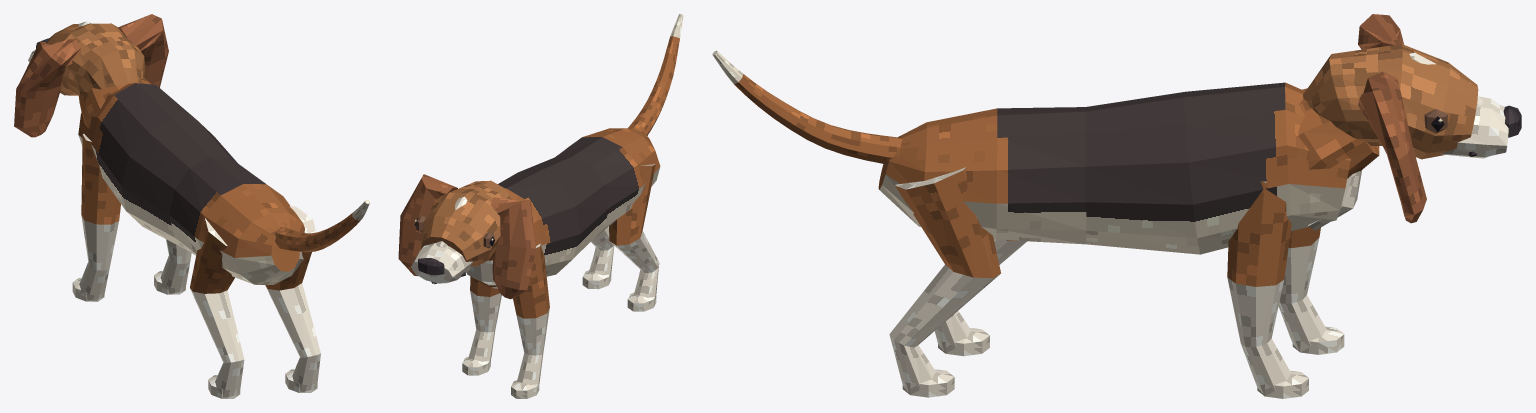
Rendered from mon_dog_beagle.glb.
The picture shows the model from 3 angles, left to right: view 1: azimuth 30°, elevation 25°; view 2: azimuth 150°, elevation 25°; view 3: azimuth 270°, elevation 25°; orthographic projection. The views are drawn at different scales.
Visible parts, largest first — view 1: closed_body; view 2: closed_body; view 3: closed_body.
Part boxes in pixels (x1,y1,x2,y2): closed_body: (14, 14, 369, 398); closed_body: (398, 14, 683, 398); closed_body: (712, 14, 1521, 398).
Bounding box in the file's own units: 0.3153 × 0.4977 × 1.09.
1 material, 1 textured.
